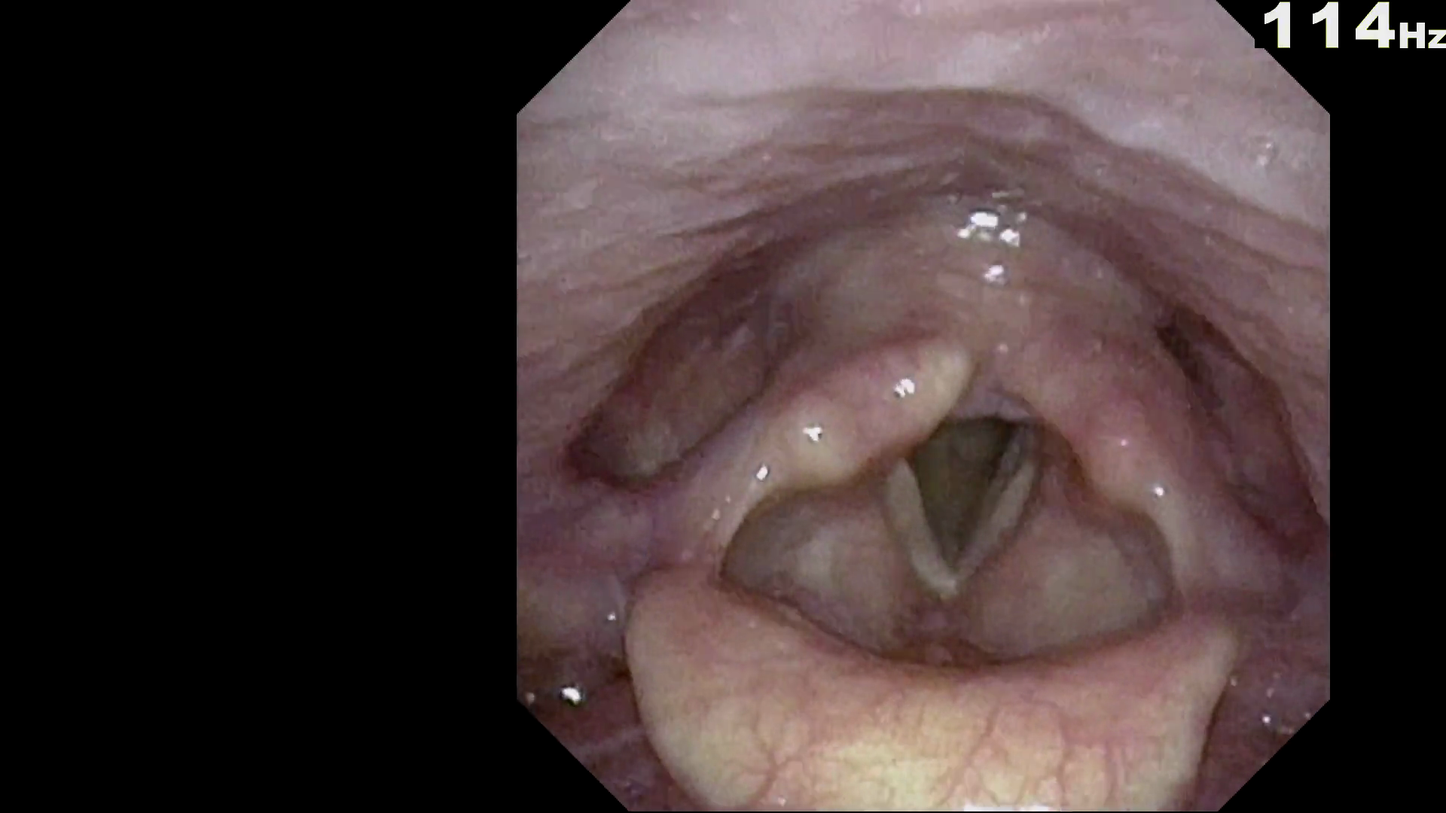epiglottis: (613, 503, 1237, 782)
trachea: (876, 367, 1055, 592)
